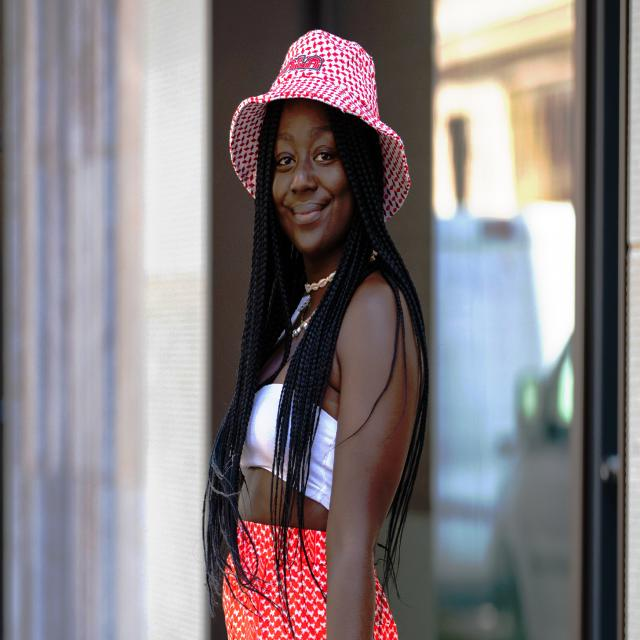TOPI: (220, 25, 414, 234)
